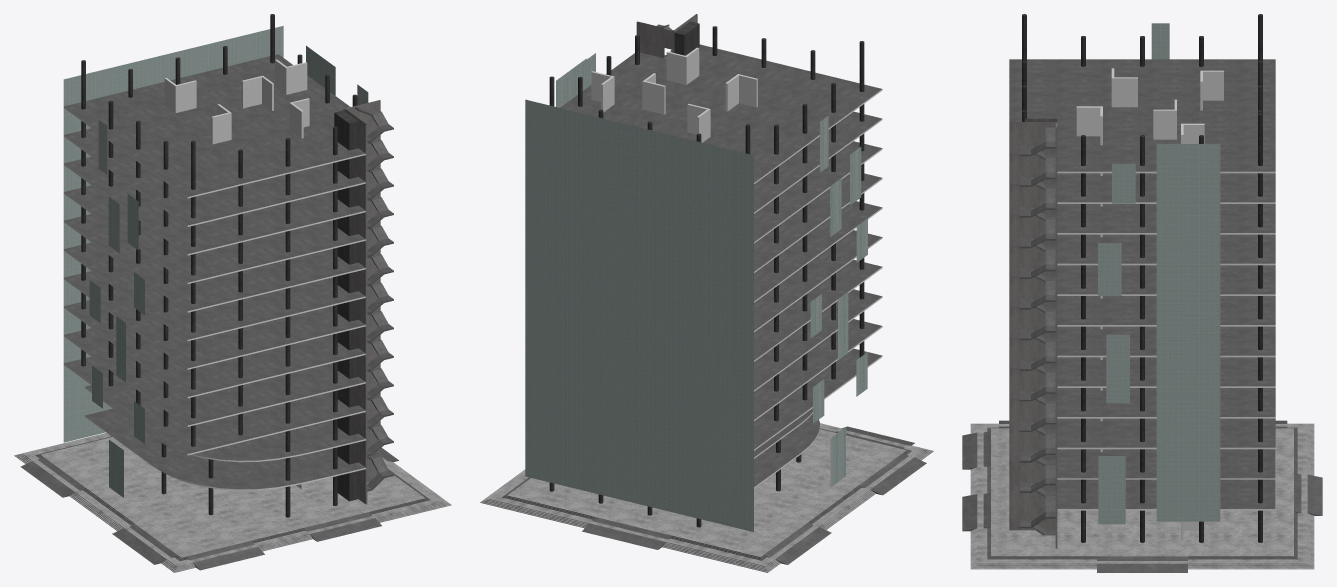
Rendered from Building.fbx.
3 renders of one model, left to right at view 1: azimuth 30°, elevation 25°; view 2: azimuth 150°, elevation 25°; view 3: azimuth 270°, elevation 25°, orthographic. The views are drawn at different scales.
Parts seen in each view (by area): view 1: Plane.002, Plane.005, Plane.106, Circle, Plane.003, Cube.022, Plane.004, Plane.121, Plane.143, Plane.119, Plane.104, Plane.103 (+1 smaller); view 2: Plane.106, Plane.002, Plane.005, Plane.003, Plane.004, Plane.143, Circle, Plane.121, Cube.022; view 3: Plane.002, Plane.106, Plane.005, Plane.121, Circle, Plane.004, Plane.119, Plane.003, Plane.143, Plane.104, Plane.122, Plane.103.
Boxes of the visible parts, box(x1,y1,x2,y2) form: Plane.002: box(63, 54, 365, 455); Plane.005: box(20, 436, 429, 570); Plane.106: box(63, 26, 368, 497); Circle: box(85, 385, 365, 490); Plane.003: box(81, 14, 357, 446); Cube.022: box(334, 110, 358, 501); Plane.004: box(14, 432, 451, 572); Plane.121: box(343, 100, 380, 410); Plane.143: box(164, 59, 309, 144); Plane.119: box(355, 107, 393, 399); Plane.104: box(358, 388, 380, 504); Plane.103: box(161, 419, 337, 517); Plane.106: box(525, 53, 867, 531); Plane.002: box(560, 44, 882, 450); Plane.005: box(502, 426, 926, 564); Plane.003: box(549, 26, 864, 421); Plane.004: box(480, 423, 933, 572); Plane.143: box(591, 47, 757, 142); Circle: box(754, 408, 819, 488); Plane.121: box(636, 14, 697, 58); Cube.022: box(674, 21, 699, 55); Plane.002: box(1009, 59, 1275, 449); Plane.106: box(1098, 23, 1220, 524); Plane.005: box(962, 420, 1322, 572); Plane.121: box(1009, 122, 1057, 447); Circle: box(1057, 449, 1275, 510); Plane.004: box(970, 423, 1314, 569); Plane.119: box(1019, 127, 1055, 435); Plane.003: box(1022, 14, 1262, 441); Plane.143: box(1076, 68, 1223, 451); Plane.104: box(1009, 429, 1057, 548); Plane.122: box(1019, 434, 1055, 535); Plane.103: box(1081, 449, 1262, 542).
Size of the model in its own units: 86.33 by 114 by 86.33.
